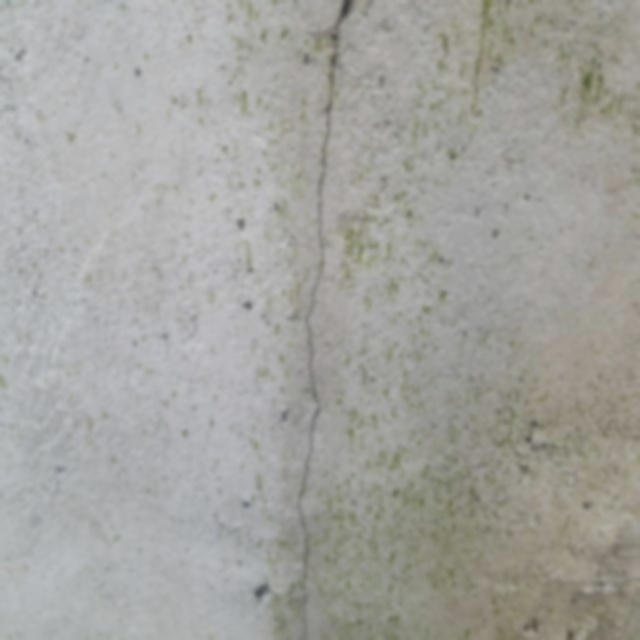SurfaceCrack: (246, 0, 382, 640)
